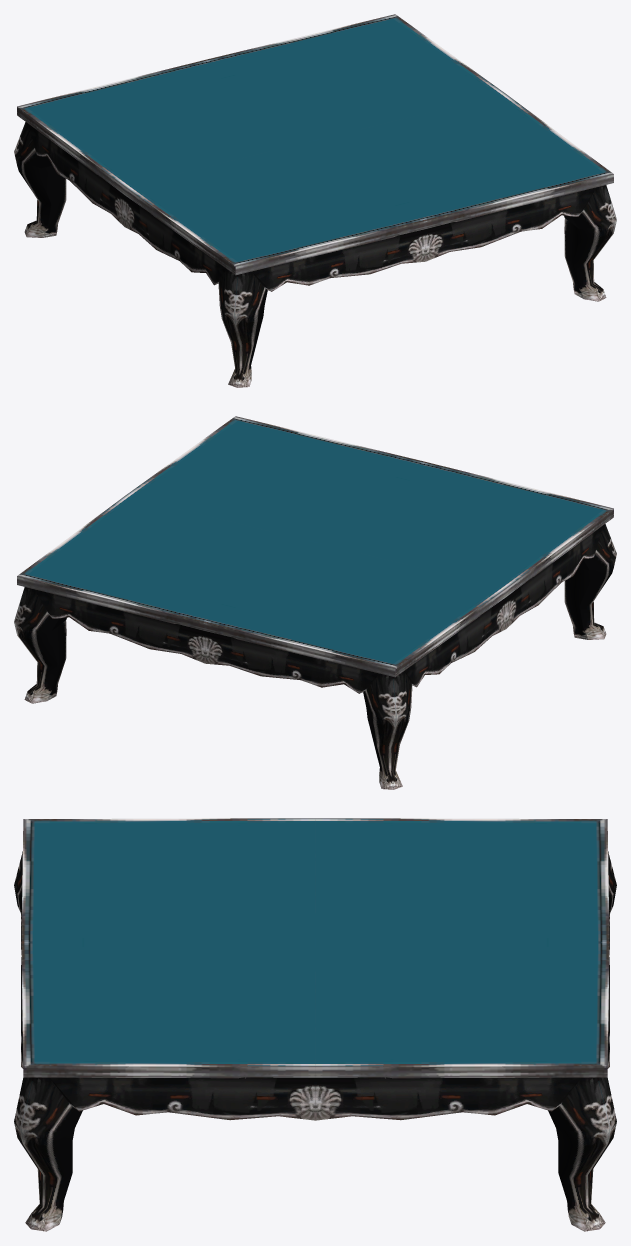
File: furni_0201214_01.FBX
3 views of the same model, one above another, from view 1: azimuth 30°, elevation 25°; view 2: azimuth 150°, elevation 25°; view 3: azimuth 270°, elevation 25° (orthographic). The views are drawn at different scales.
Parts seen in each view (by area): view 1: furni_0201214_01; view 2: furni_0201214_01; view 3: furni_0201214_01.
Boxes of the visible parts, left/top/right/bottom form: furni_0201214_01: left=14, top=14, right=616, bottom=387; furni_0201214_01: left=14, top=416, right=616, bottom=789; furni_0201214_01: left=14, top=818, right=616, bottom=1231.
Size of the model in its own units: 164 by 49.99 by 164.
